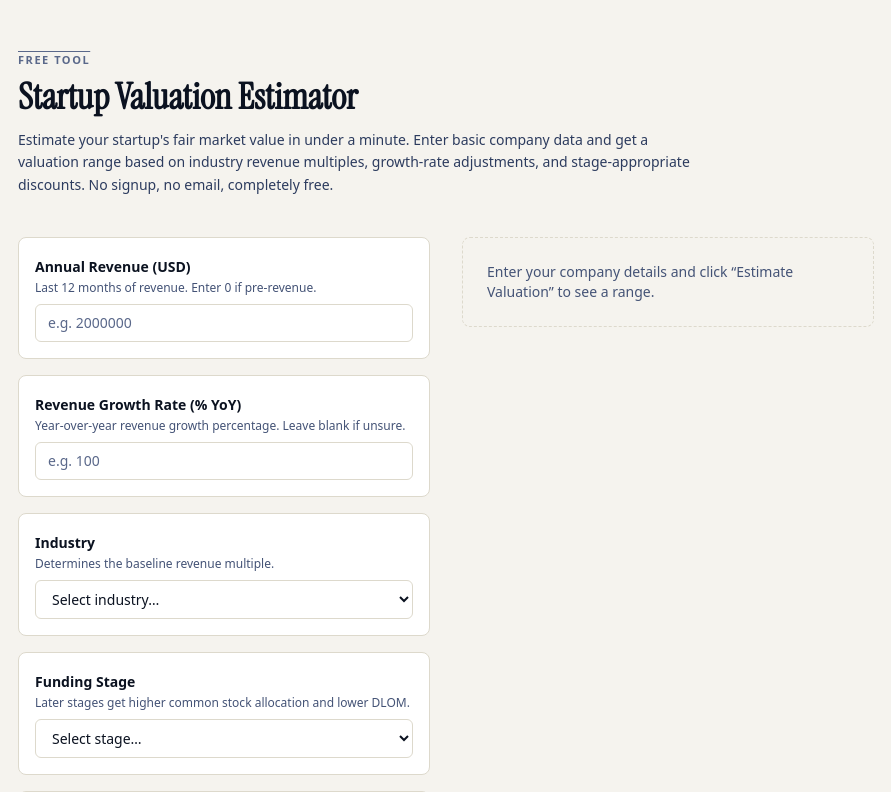
Test: ValuationEstimatorPage › resets form and results on reset click
Type "1000000" into the number field labelled "Annual Revenue (USD)" at (224, 323), box [35,304,413,342]
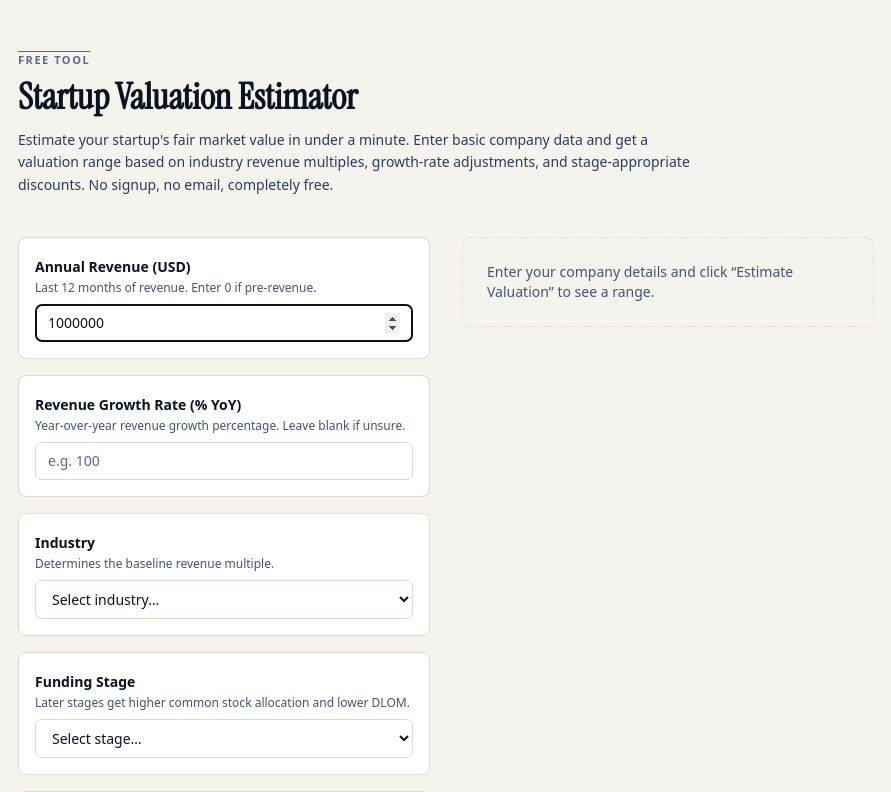
Select "Fintech" in the dropdown labelled "Industry" at (224, 599), box [35,580,413,619]
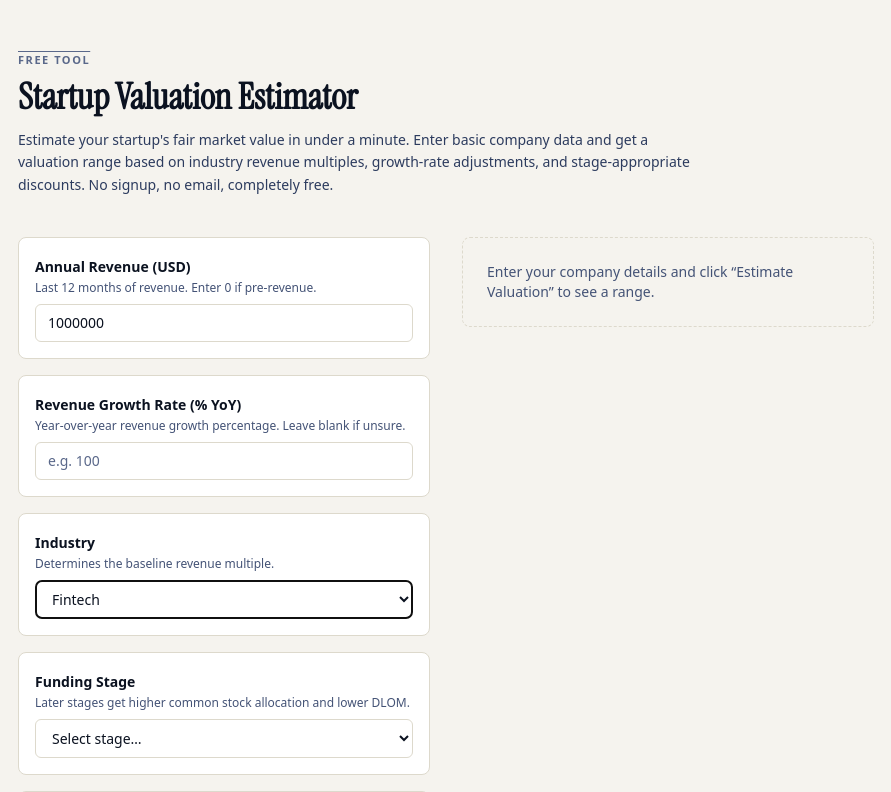
Select "Seed" in the dropdown labelled "Funding Stage" at (224, 738), box [35,719,413,758]
(page scrolled)
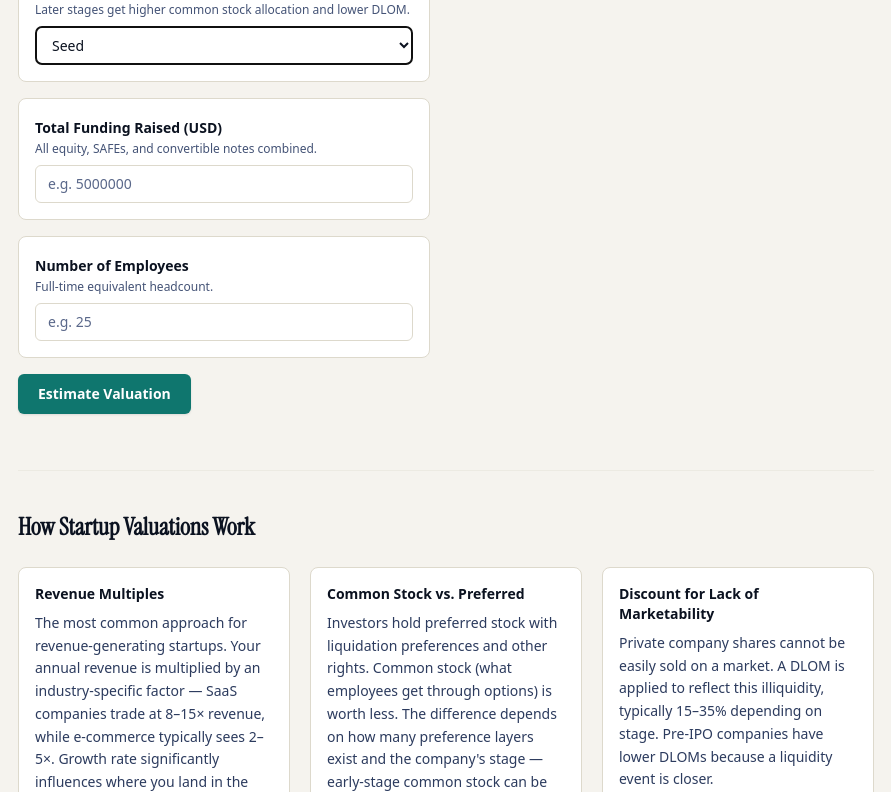
Click the button with test id "estimate-button" at (104, 394), box [18,374,191,414]
(page scrolled)
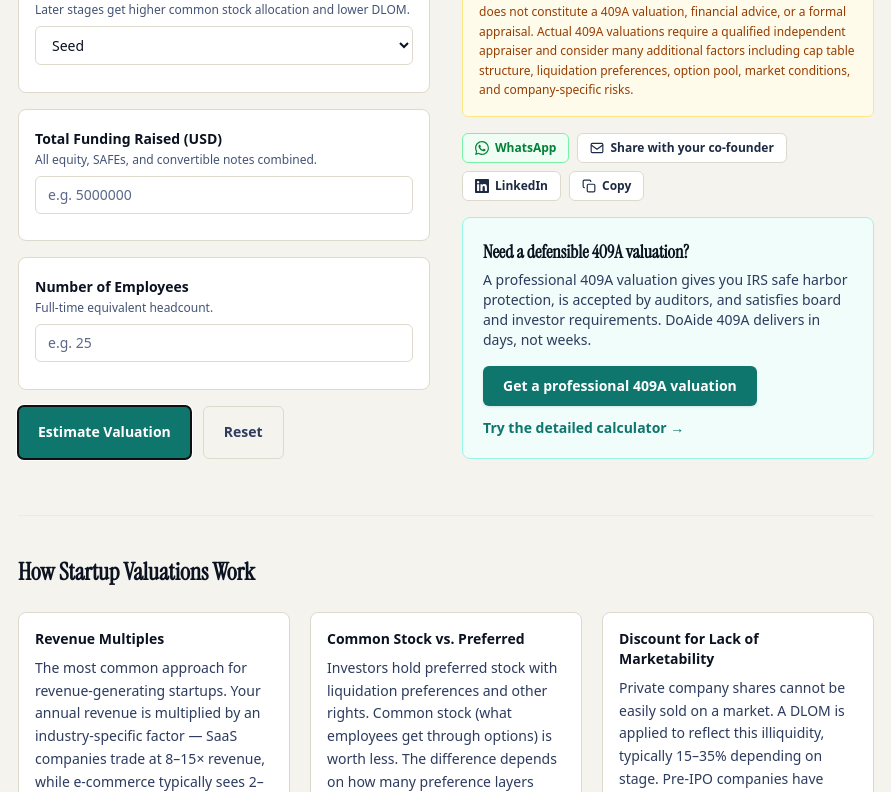
// Click reset
Click the button with test id "reset-button" at (243, 432), box [203,406,284,459]
(page scrolled)
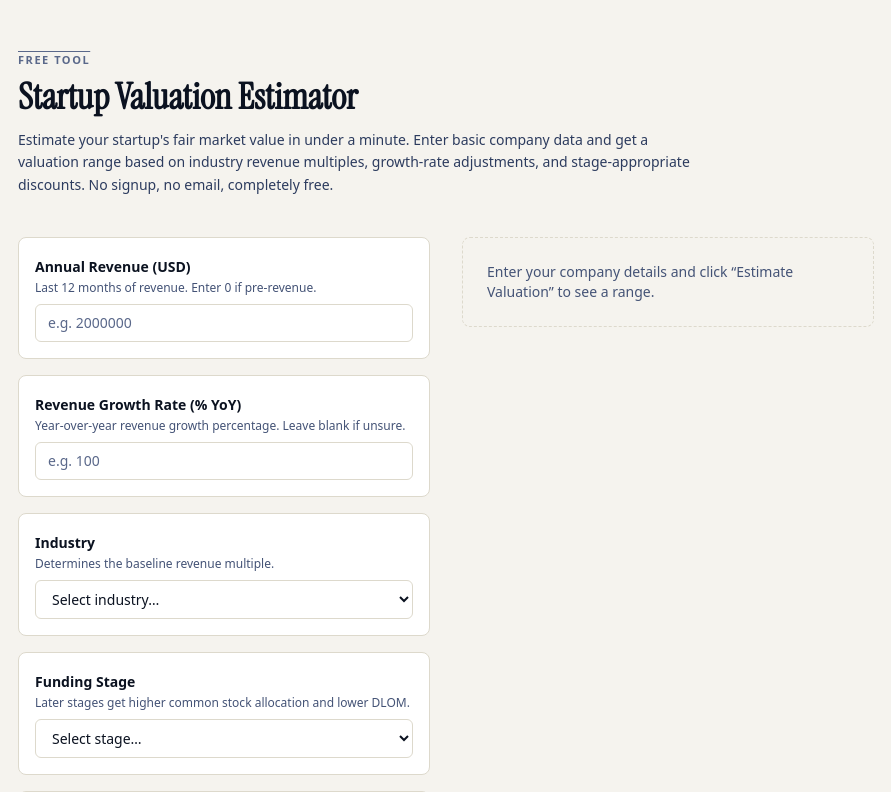
Result: the text "Enter your company details" is shown at [487,262,793,301]
